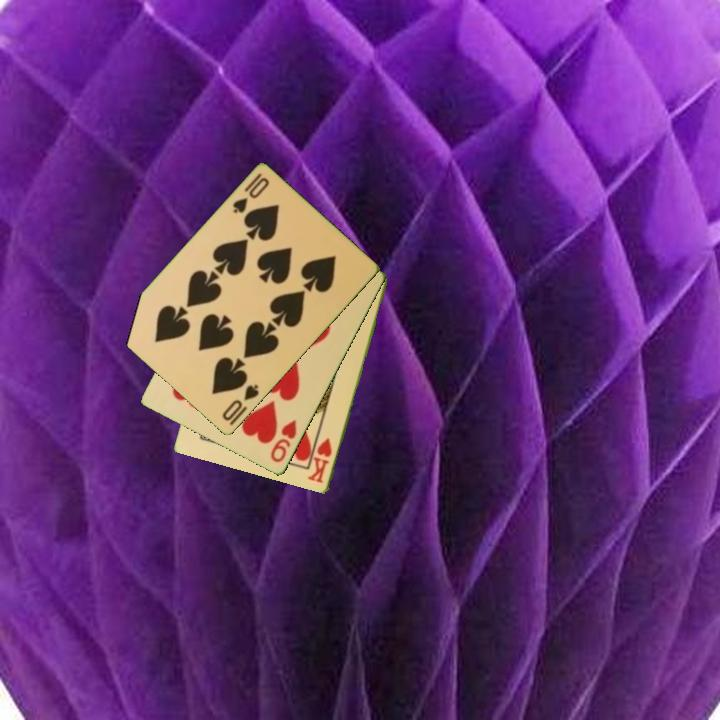10s: (229, 170, 272, 217), (219, 381, 262, 424)
9h: (267, 417, 300, 466)
Kh: (305, 435, 335, 486)
